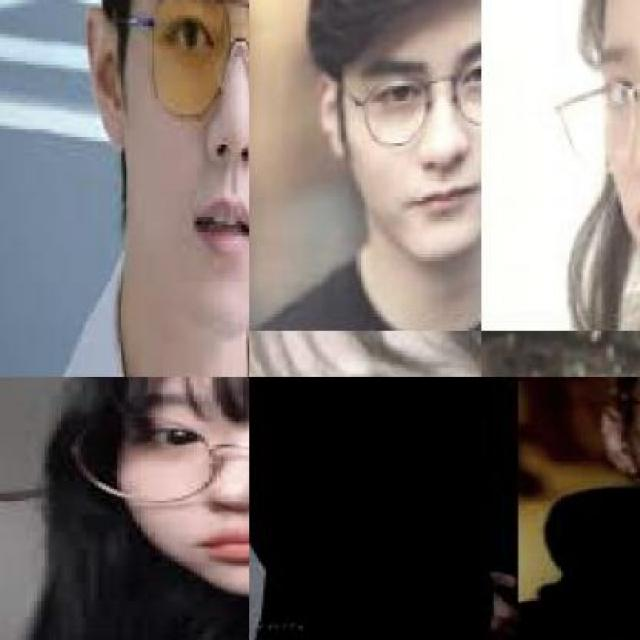glasses: (128, 0, 248, 146), (74, 422, 248, 509), (331, 59, 482, 154), (547, 85, 640, 181)
